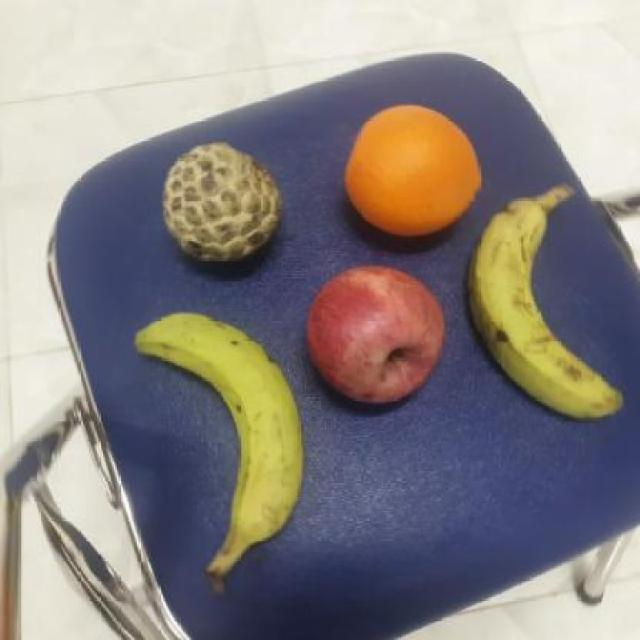apple: (301, 261, 448, 405)
banana: (128, 309, 308, 553), (468, 193, 629, 427)
oren: (342, 98, 483, 237)
sugar apple: (160, 142, 285, 262)
